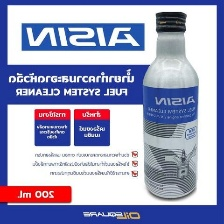cleaning_solution: (139, 9, 201, 201)
